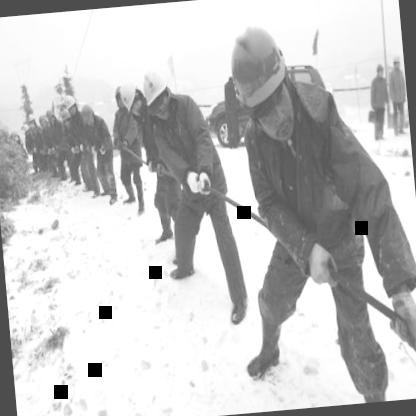helmet: (228, 21, 297, 148), (137, 61, 174, 121), (118, 79, 142, 117), (79, 102, 97, 130), (58, 108, 74, 130), (374, 59, 388, 82), (65, 92, 79, 114), (36, 113, 50, 133), (43, 106, 57, 124), (392, 51, 404, 71)
